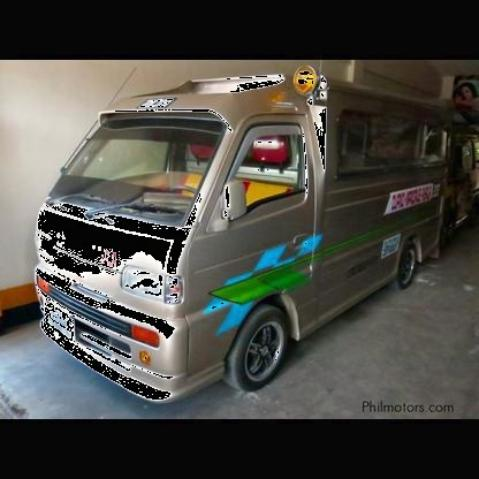jeepney: (34, 65, 452, 400)
